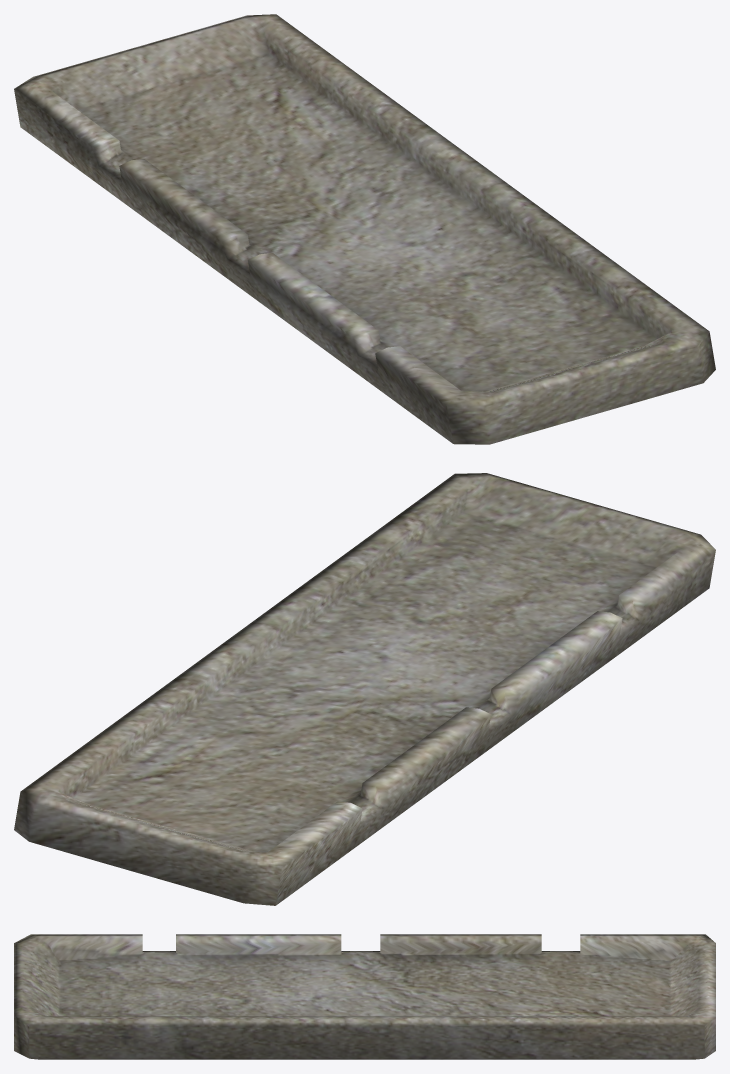
The model's file is Fountain_Trays_01.fbx.
The picture shows the model from 3 angles, top to bottom: view 1: azimuth 30°, elevation 25°; view 2: azimuth 150°, elevation 25°; view 3: azimuth 270°, elevation 25°; orthographic projection. The views are drawn at different scales.
Visible parts, largest first — view 1: polySurface1; view 2: polySurface1; view 3: polySurface1.
Boxes of the visible parts, <box> form: polySurface1: <box>14,14,715,444</box>; polySurface1: <box>14,473,715,905</box>; polySurface1: <box>14,934,715,1059</box>.
Bounding box in the file's own units: 1.28 × 0.2531 × 3.73.
Materials: 1 (1 with a texture image).
